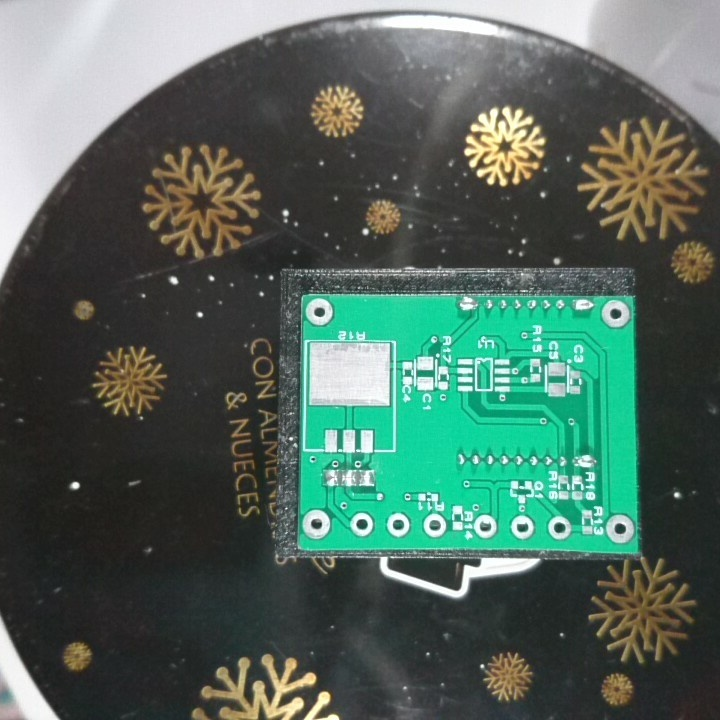F: (300, 506, 332, 543), (603, 511, 636, 544), (599, 298, 632, 329), (303, 295, 335, 326), (544, 513, 573, 543), (472, 511, 499, 541), (384, 509, 411, 538), (419, 509, 446, 538), (508, 512, 535, 541), (348, 511, 375, 538)
P: (567, 451, 600, 470), (453, 295, 480, 314), (571, 295, 595, 316)
